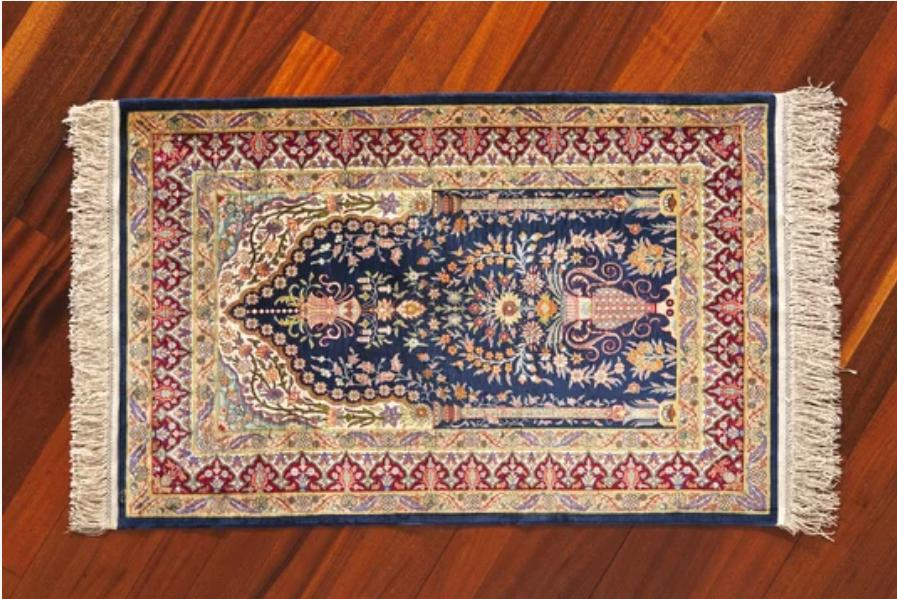carpet: (67, 88, 840, 534)
